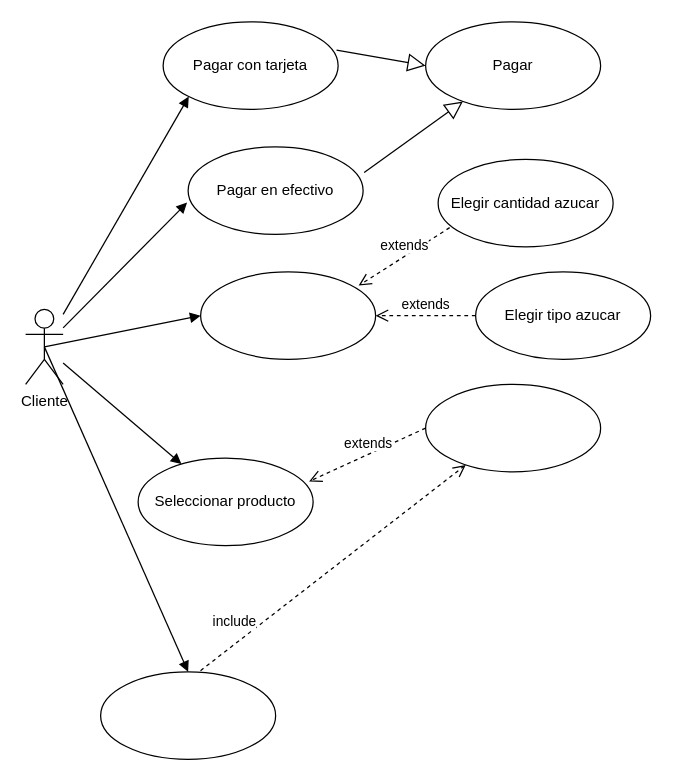
This 673x781 diagram has some shape labels left out. The centre of each missing label's shape, as x and y in pixels:
Cancelar la seleccion: pixel 187 715
Dar vueltas: pixel 512 427
Seleccionar azucar: pixel 287 315
